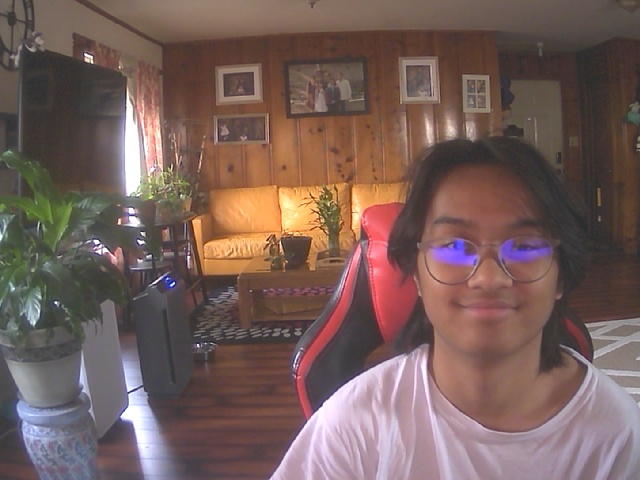happy: (413, 138, 573, 364)
